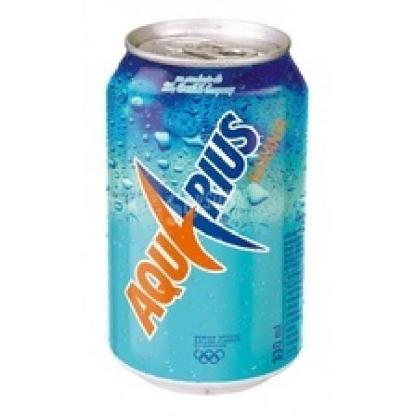Can: (102, 20, 314, 394)
